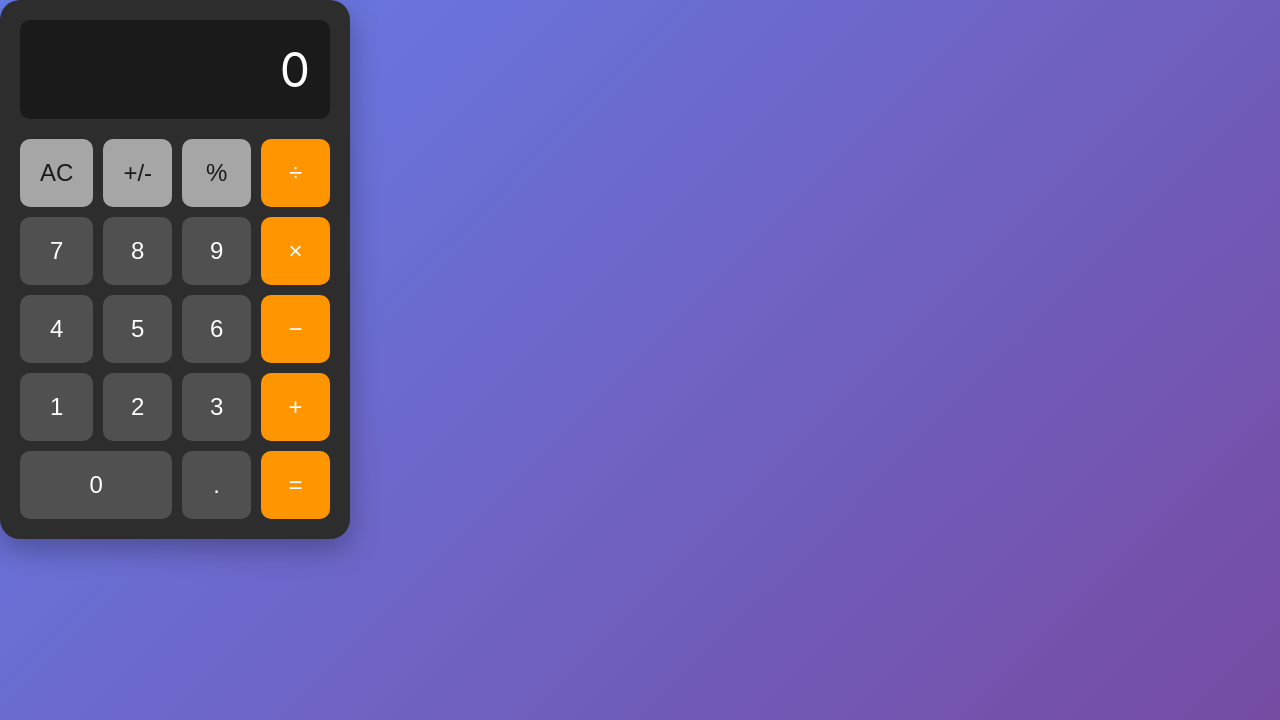
Test: Calculator Component › displays digit when clicked
Click the button "5".
click(138, 329)  # box [103,295,172,363]
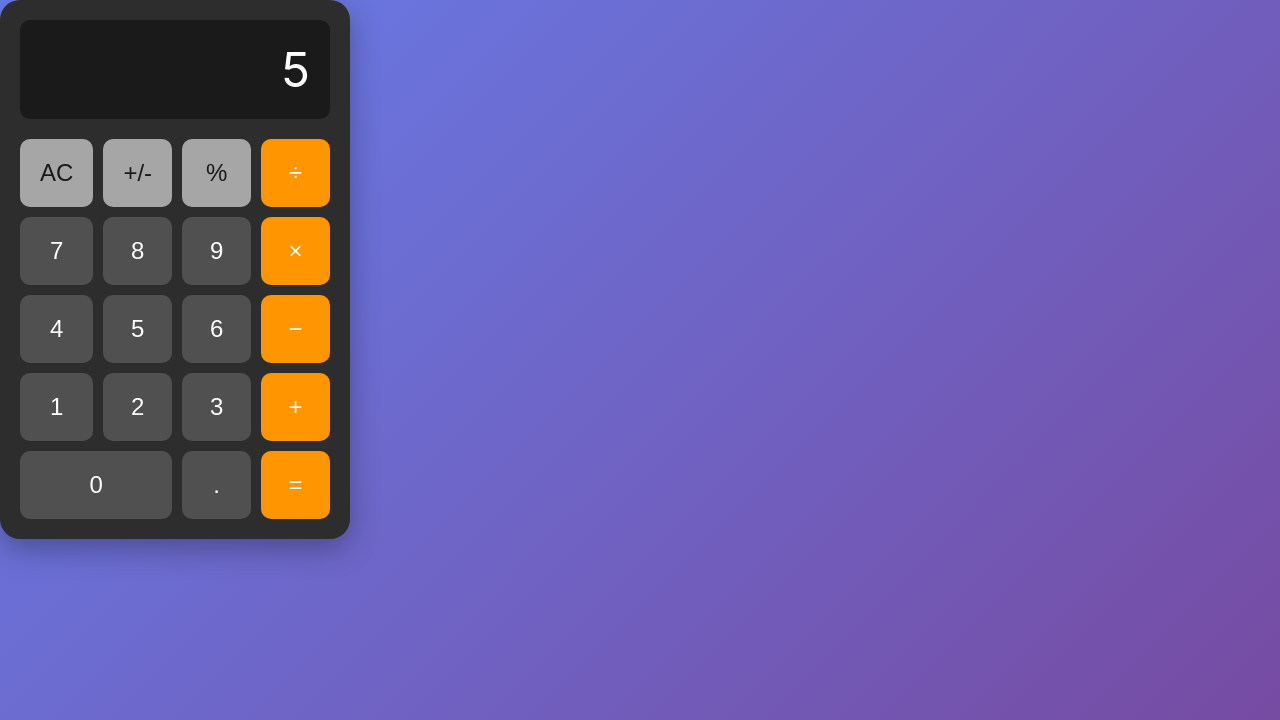
expect the text with class "calculator-display" reads "5": met, box [282,40,310,99]
